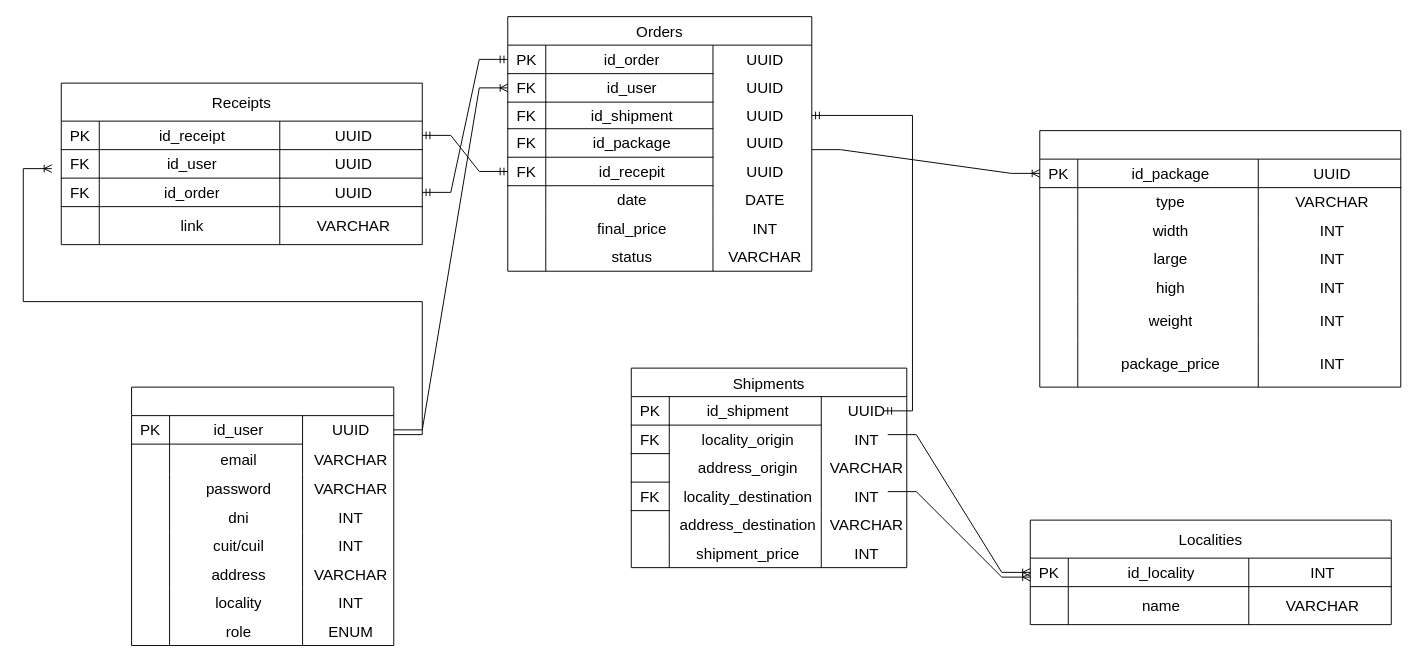
The diagram is 1417 pixels wide and 662 high, and some of its shapes have lost their labels. Each missing label, with the box of its shape:
Packages: (1039, 130, 1401, 387)
Users: (131, 386, 394, 646)
